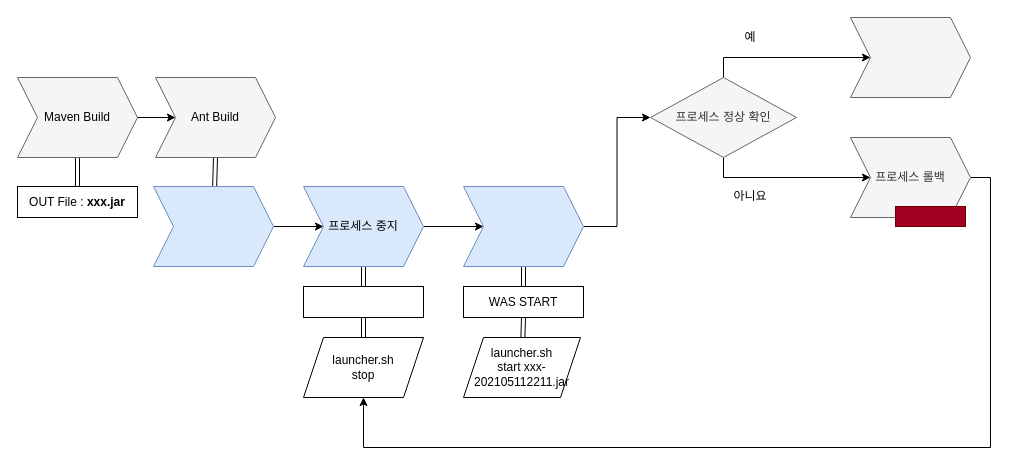
Image size: 1016x473. Some labels were removed from this diagram. Each missing label, with the centre of its shape:
Rename xxx-202105112211.jar: point (213, 226)
WAS STOP: point (363, 302)
배포종료: point (910, 57)
수동 처리: point (930, 216)
프로세스 기동: point (523, 226)
